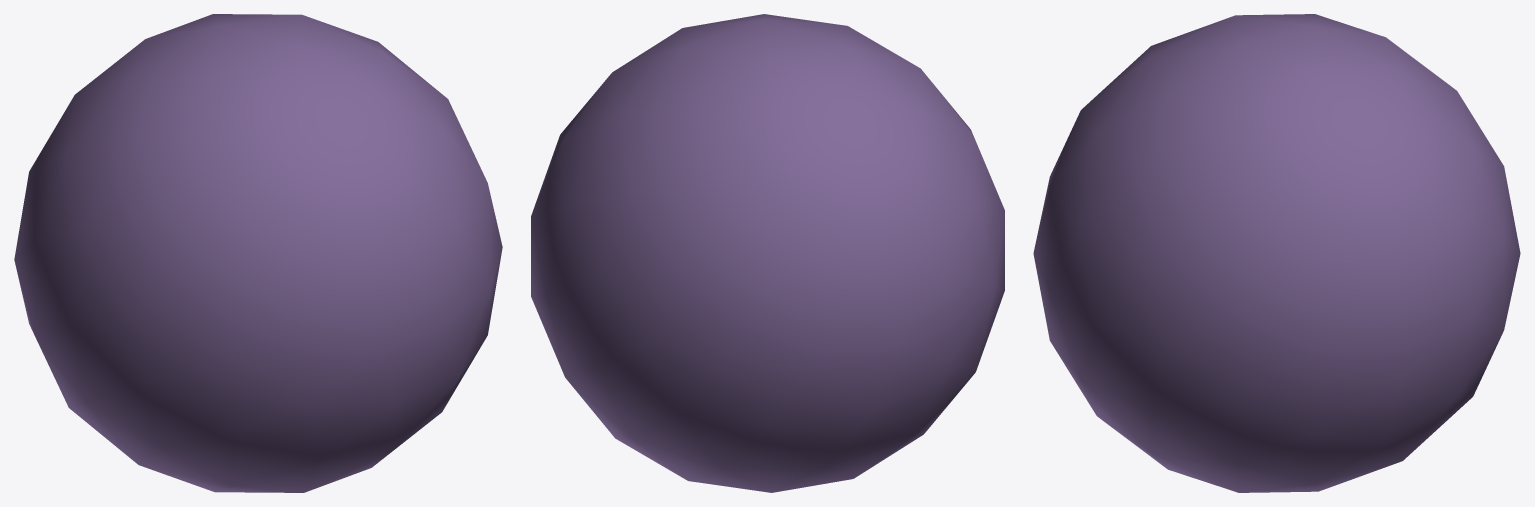
The model's file is ExitSphere.FBX.
3 renders of one model, left to right at view 1: azimuth 30°, elevation 25°; view 2: azimuth 150°, elevation 25°; view 3: azimuth 270°, elevation 25°, orthographic.
Parts seen in each view (by area): view 1: ExitSphere; view 2: ExitSphere; view 3: ExitSphere.
Boxes of the visible parts, x1=… form: ExitSphere: x1=14, y1=14, x2=502, y2=492; ExitSphere: x1=531, y1=14, x2=1004, y2=492; ExitSphere: x1=1033, y1=14, x2=1520, y2=492.
Bounding box in the file's own units: 34.08 × 34.58 × 34.
